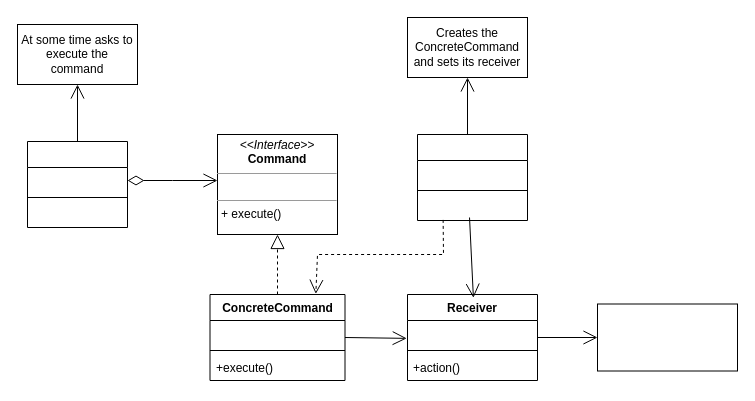
This 755x401 diagram has some shape labels left out. The centre of each missing label's shape, as x and y in pixels:
Action() is a placeholder for some ConcreteCommand's interaction with Receiver.: (x=667, y=337)
Client: (x=472, y=177)
Invoker: (x=77, y=184)
